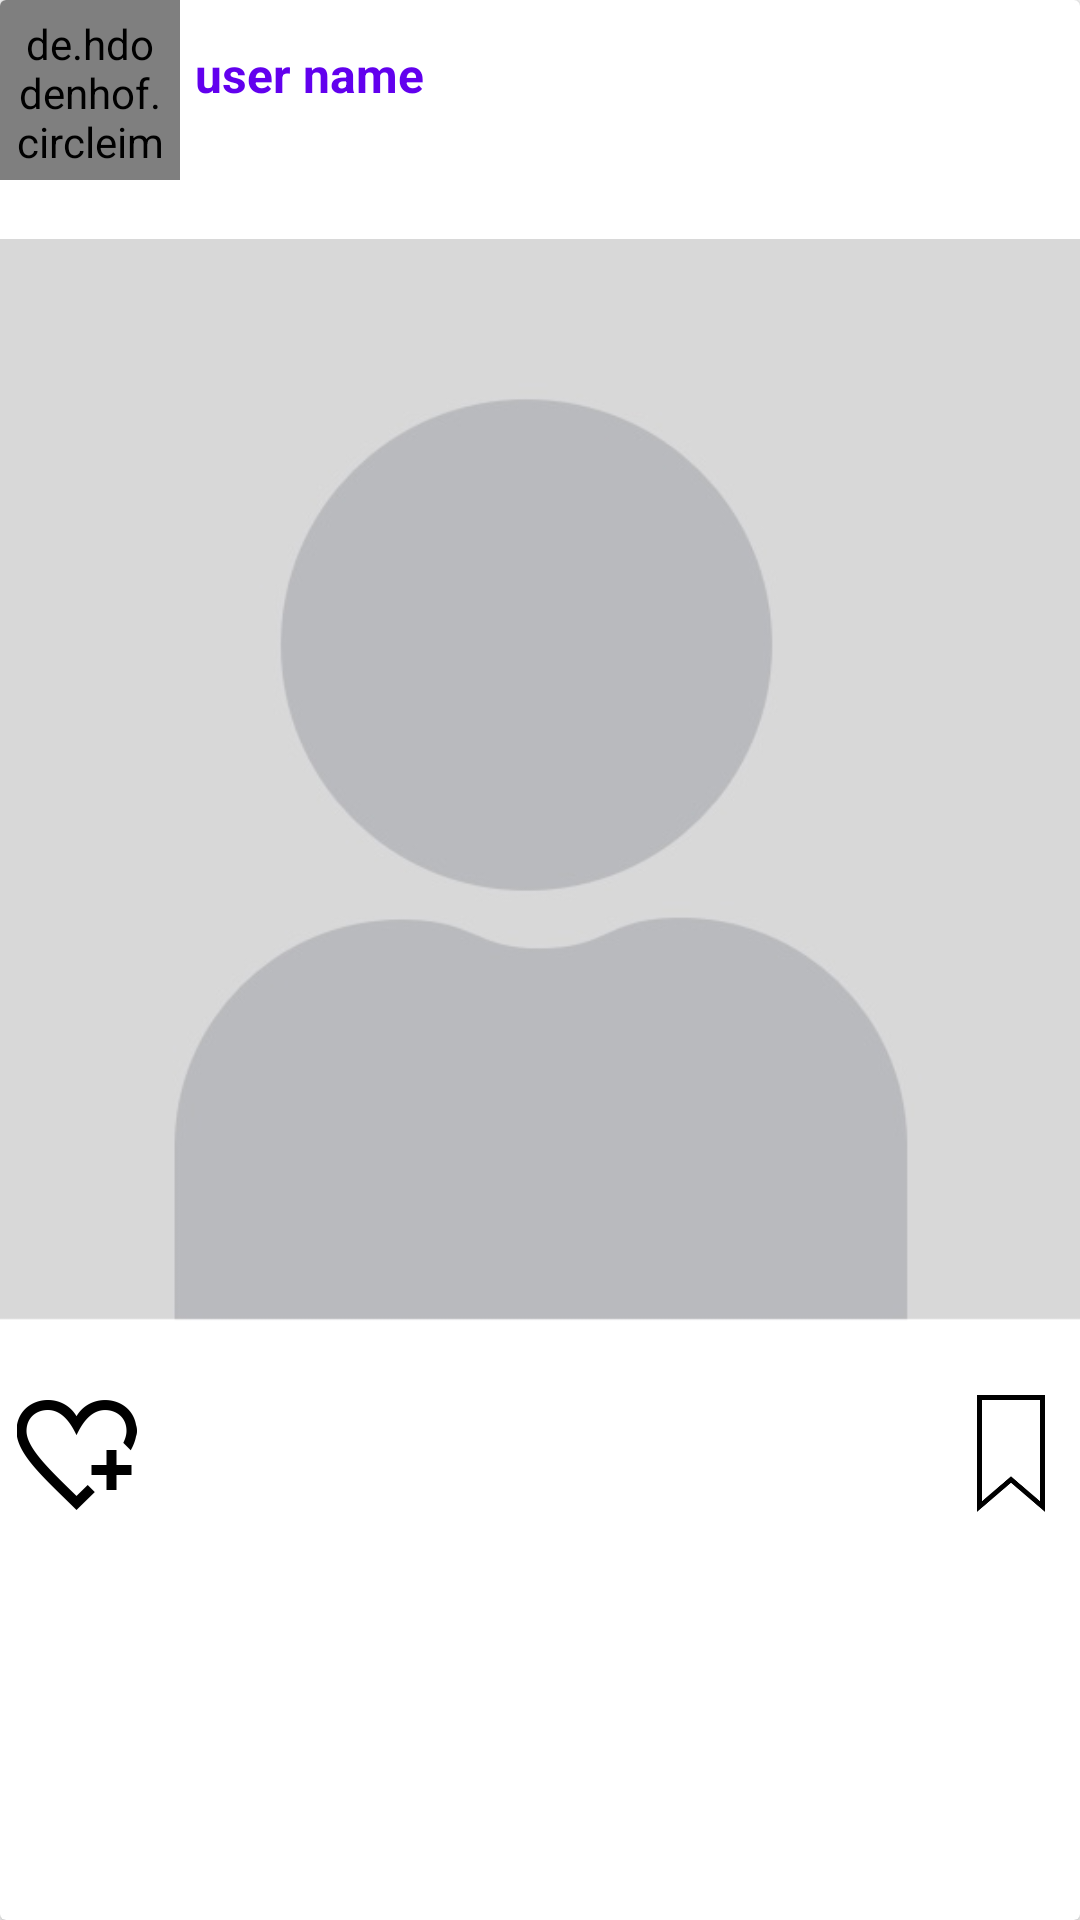

Icons on this 1080x1920 Android screen, each with its box as bbox=(x1, y1, x2, y2):
heart not clicked: bbox=(17, 1400, 137, 1510)
save unfilled: bbox=(977, 1395, 1045, 1512)
